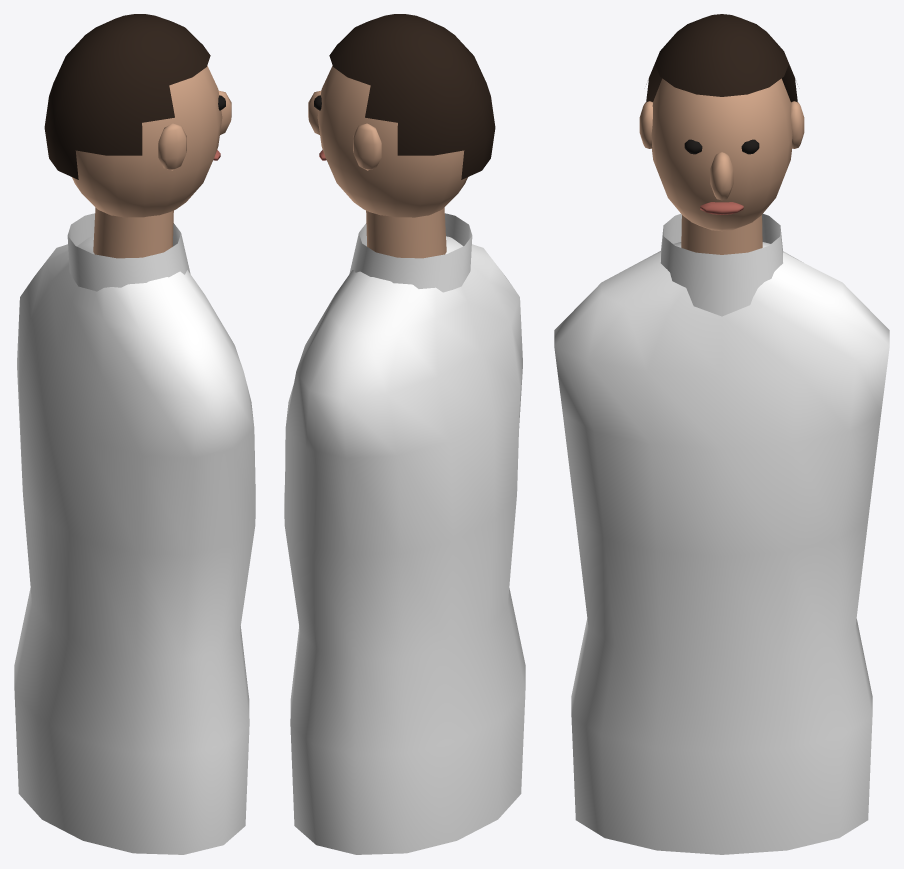
The model's file is body_man.obj.
3 renders of one model, left to right at view 1: azimuth 30°, elevation 25°; view 2: azimuth 150°, elevation 25°; view 3: azimuth 270°, elevation 25°, orthographic.
Parts seen in each view (by area): view 1: body_man_CoatPaint, body_man_HairDark, body_man_Skin; view 2: body_man_CoatPaint, body_man_HairDark, body_man_Skin; view 3: body_man_CoatPaint, body_man_Skin, body_man_HairDark.
Part boxes in pixels (x1,y1,x2,y2): body_man_CoatPaint: (14, 213, 255, 854); body_man_HairDark: (44, 14, 210, 179); body_man_Skin: (72, 66, 231, 258); body_man_CoatPaint: (284, 213, 525, 854); body_man_HairDark: (329, 14, 495, 179); body_man_Skin: (308, 66, 467, 258); body_man_CoatPaint: (554, 214, 889, 854); body_man_Skin: (639, 78, 804, 254); body_man_HairDark: (646, 14, 797, 102).
Size of the model in its own units: 0.26 by 1.03 by 0.3802.
5 materials, 5 textured.
